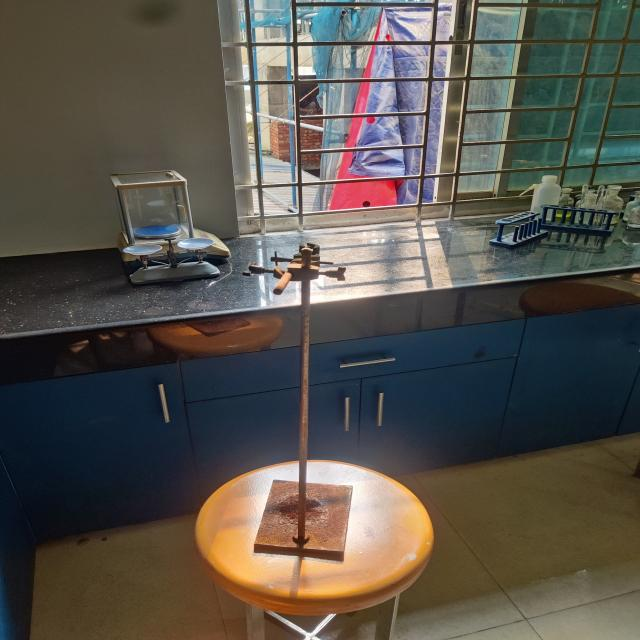Burette_Stands: (218, 218, 391, 578)
